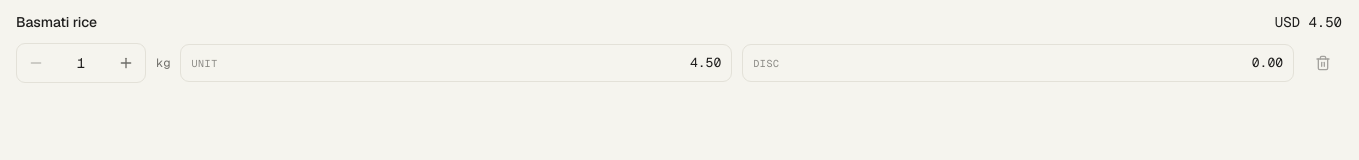
CartLineRow — the quantity stepper › drops a fourth decimal rather than rewriting what was typed
The image size is (1359, 160).
Replace the text in the field named "quantity of basmati rice" with "1.2345" at x=81, y=63, box [55,52,107,74]
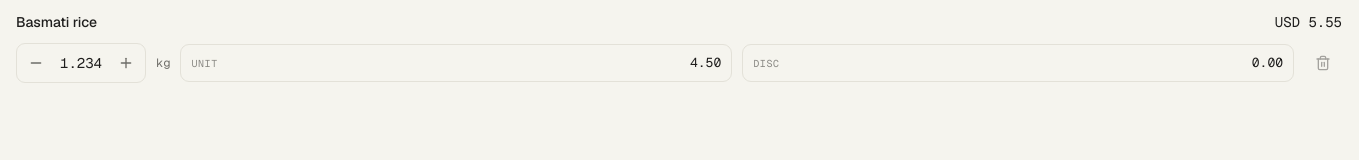
Expected: the field named "quantity of basmati rice" holds "1.234", [55,52,107,74]
